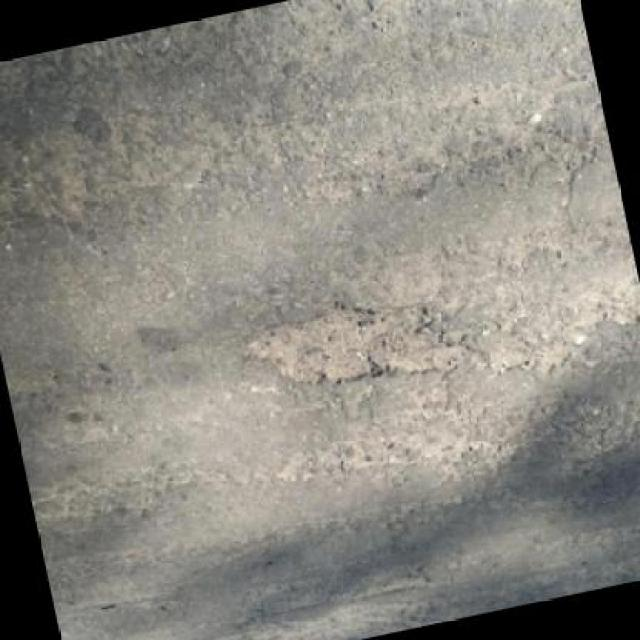pothole1: (241, 276, 479, 413)
